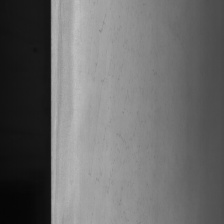silk_spot: (90, 3, 139, 175)
